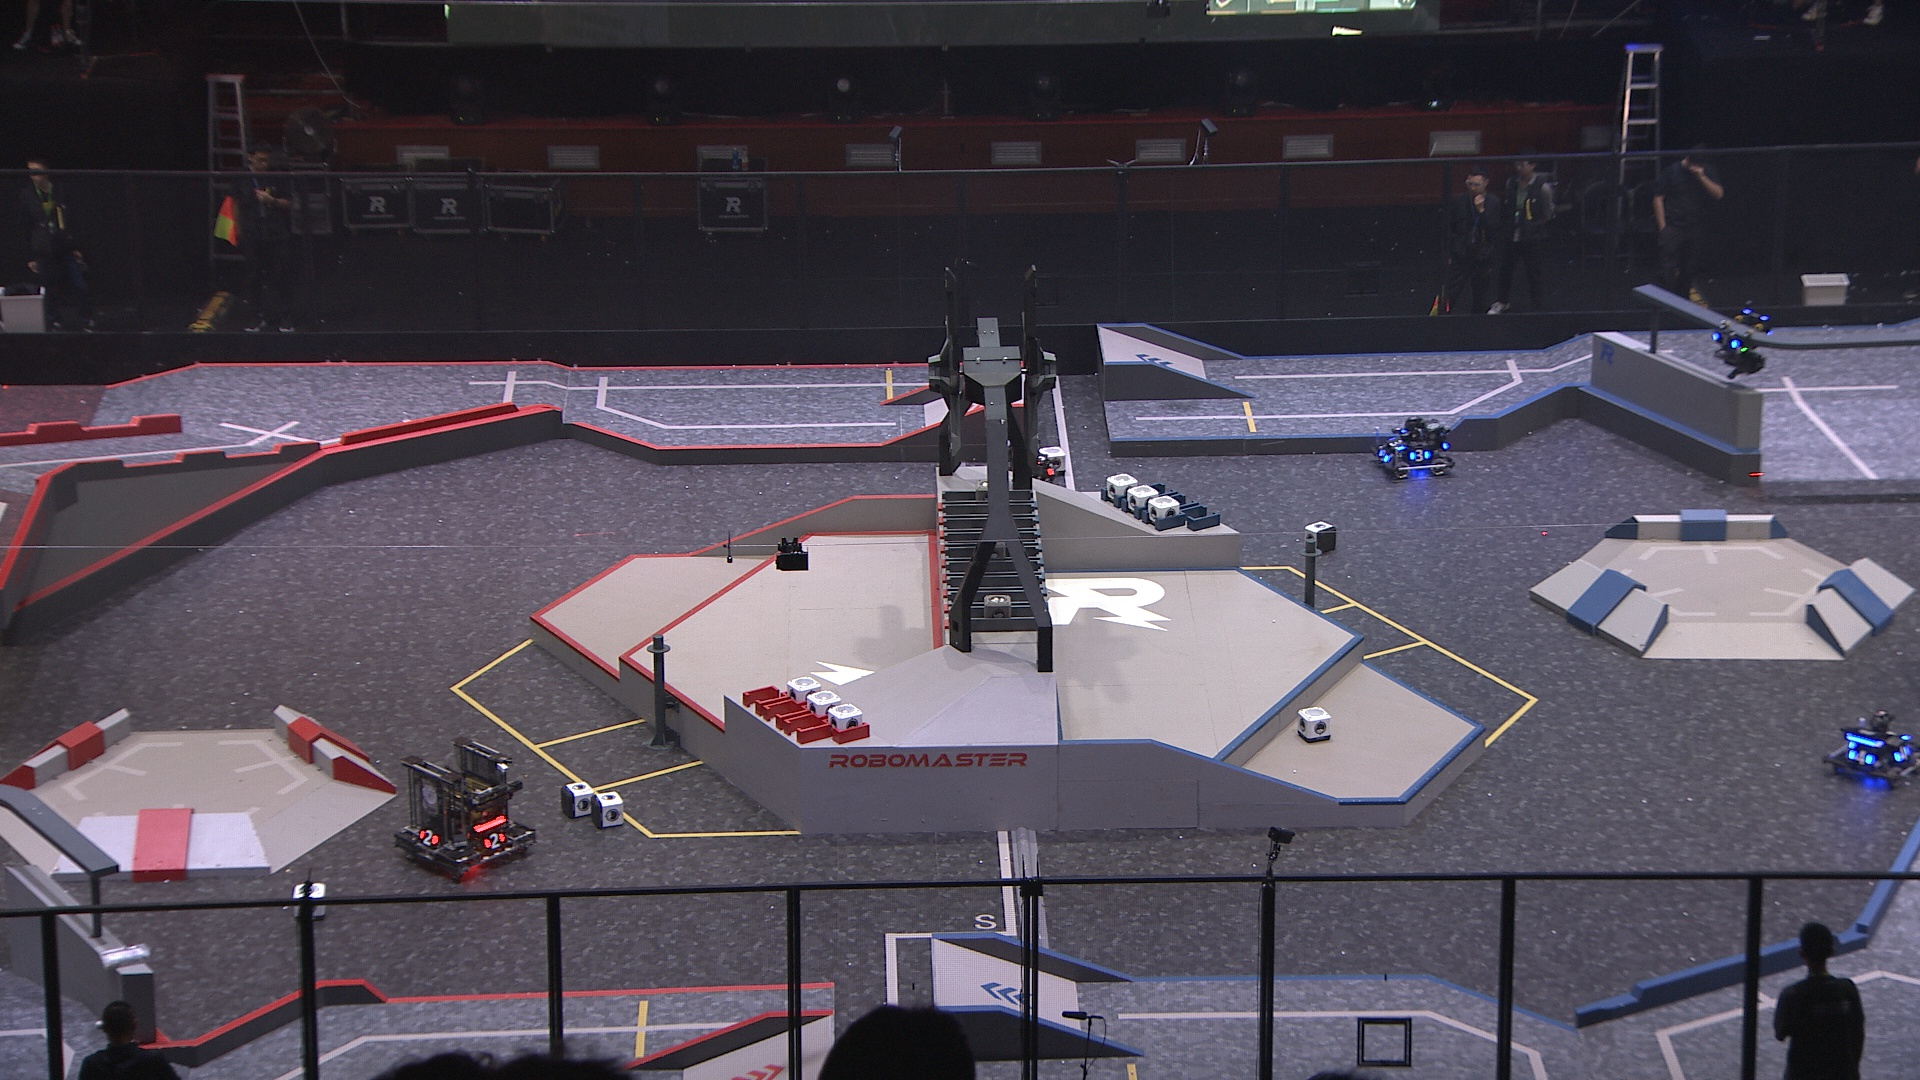armor: (1844, 746, 1876, 767), (481, 829, 509, 853), (1712, 328, 1741, 351), (417, 825, 440, 847), (1408, 447, 1433, 465), (1894, 742, 1913, 764), (1386, 433, 1404, 455), (1377, 442, 1391, 465), (1044, 460, 1058, 479)
car: (389, 732, 538, 874), (1820, 709, 1920, 785), (1367, 415, 1455, 483), (981, 429, 1059, 498)
watcher: (1708, 295, 1771, 380)
